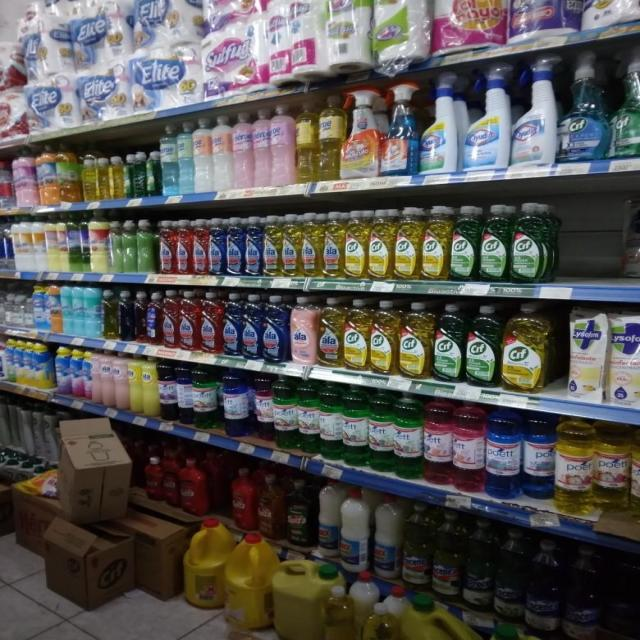ala_conc_amarillo: (318, 296, 343, 368), (323, 211, 344, 279), (302, 212, 322, 278), (282, 213, 301, 277), (263, 214, 281, 277)
ala_conc_azul: (262, 294, 289, 363), (222, 293, 242, 357), (242, 294, 261, 359), (226, 216, 244, 277), (245, 215, 262, 277), (208, 218, 226, 276)
ala_conc_rojo: (200, 291, 222, 354), (179, 290, 199, 351), (162, 290, 178, 348), (158, 220, 175, 274), (192, 218, 208, 275), (176, 219, 191, 275)
ala_crem_rosado: (114, 352, 128, 411), (100, 350, 114, 408)
ala_ultra_rosa: (290, 296, 317, 366)
cif_conc_bot_amarilla: (502, 302, 551, 393), (399, 301, 432, 380), (370, 299, 398, 376), (422, 205, 449, 282), (395, 206, 421, 281), (368, 208, 394, 281), (344, 298, 369, 371), (345, 209, 367, 281)
cif_conc_botella_verde: (511, 202, 556, 284), (466, 304, 501, 388), (434, 303, 464, 383), (480, 204, 510, 283), (451, 205, 479, 282)
